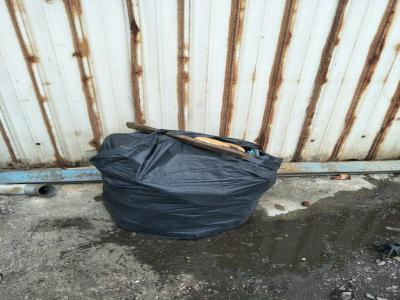plastic_bag: (86, 126, 286, 241)
